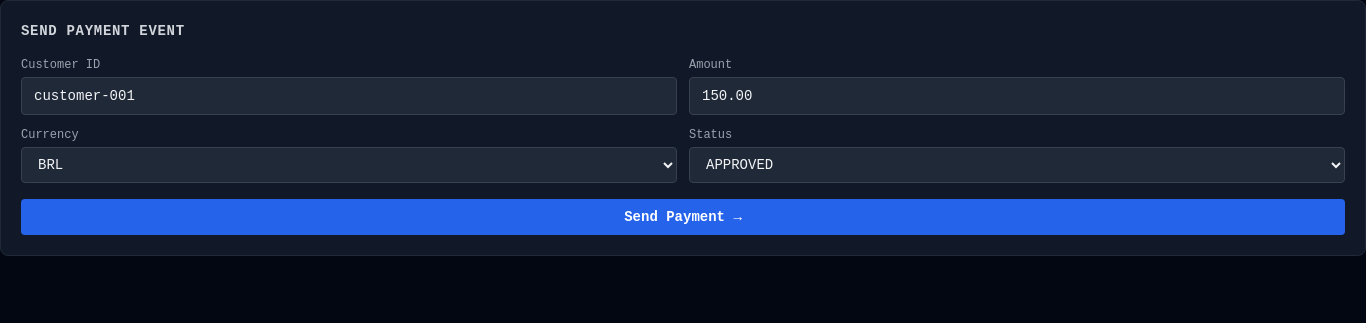
PaymentForm › shows success message after successful submission
Click the button "Send Payment →" at point(683, 217), box x1=21 y1=199 x2=1345 y2=235
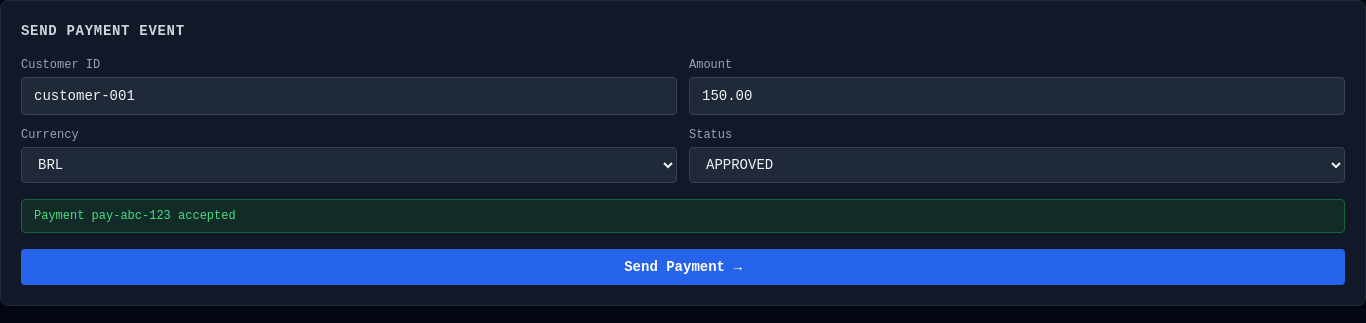
Expected: the text "Payment pay-abc-123 accepted" is shown, x1=21 y1=199 x2=1345 y2=233
